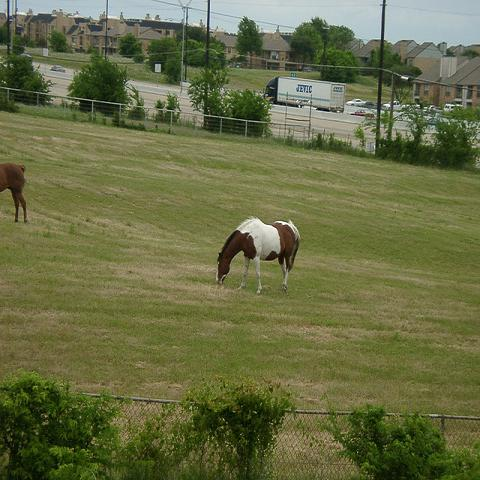car: (382, 101, 400, 111), (351, 109, 374, 116), (346, 99, 366, 106), (49, 64, 66, 72), (423, 105, 436, 114), (444, 104, 455, 113), (439, 118, 451, 126), (427, 118, 437, 126), (364, 101, 374, 109), (411, 101, 420, 109)
truck: (262, 76, 346, 112), (383, 101, 406, 112)
